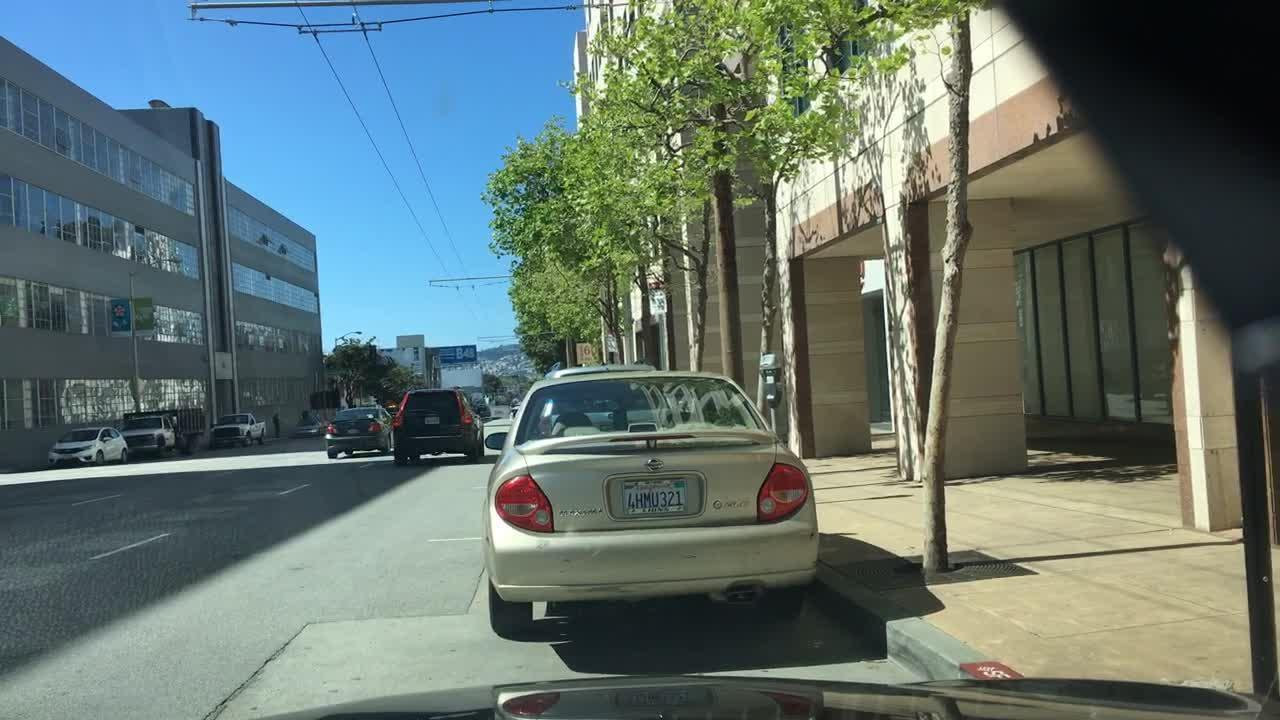Nissan: (640, 449, 670, 480)
